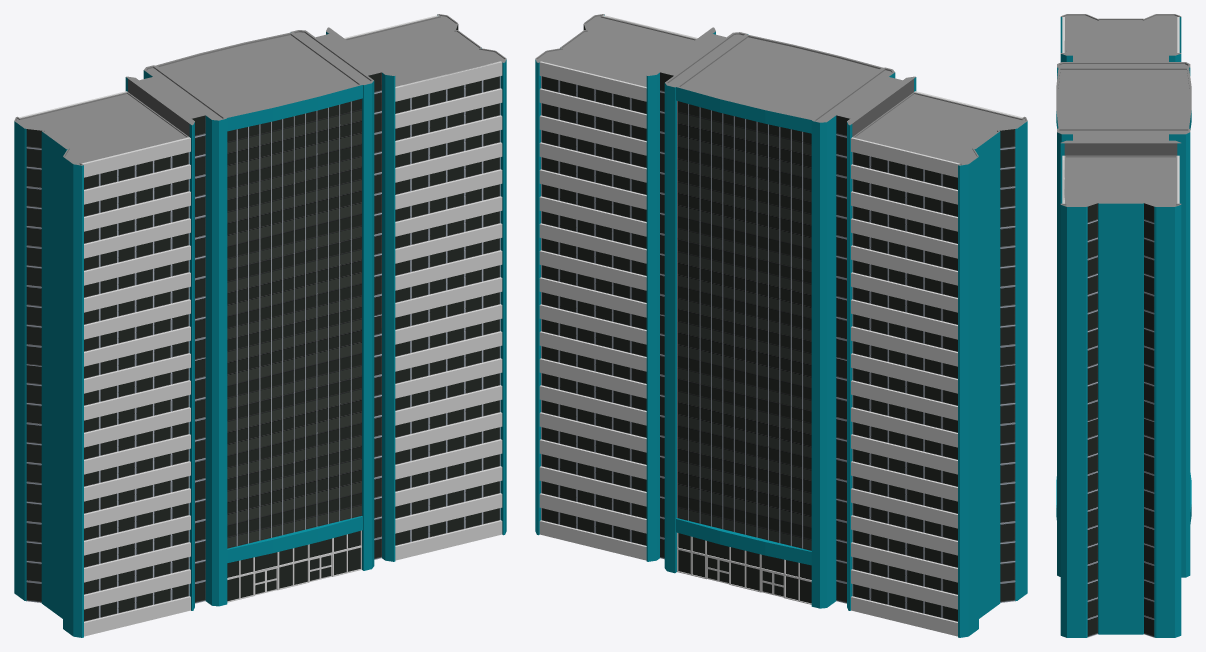
3 views of the same model, side by side, from view 1: azimuth 30°, elevation 25°; view 2: azimuth 150°, elevation 25°; view 3: azimuth 270°, elevation 25° (orthographic). The views are drawn at different scales.
Visible parts, largest first — view 1: BC-07; view 2: BC-07; view 3: BC-07.
Boxes of the visible parts, <box> form: BC-07: <box>14,14,506,637</box>; BC-07: <box>535,14,1027,637</box>; BC-07: <box>1056,14,1191,637</box>.
Size of what is drawn, in the model's own units: 50.4 by 54 by 14.96.
